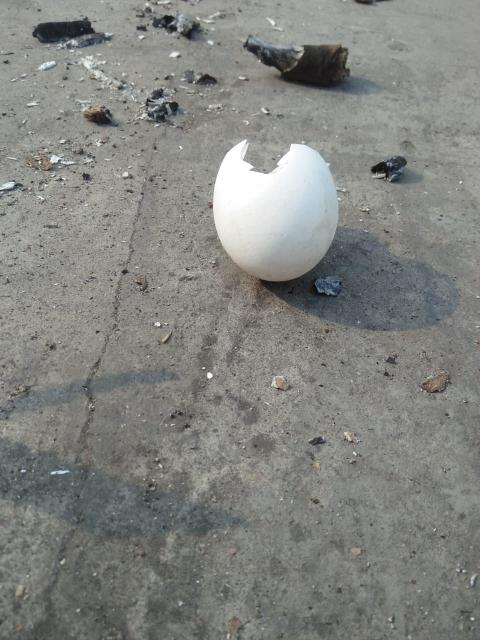Roto: (212, 138, 339, 282)
